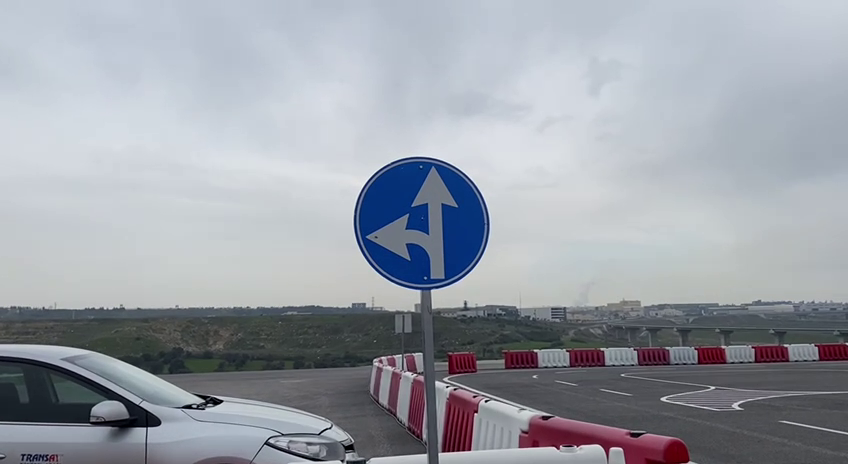forwardAndLeft: (350, 153, 494, 293)
